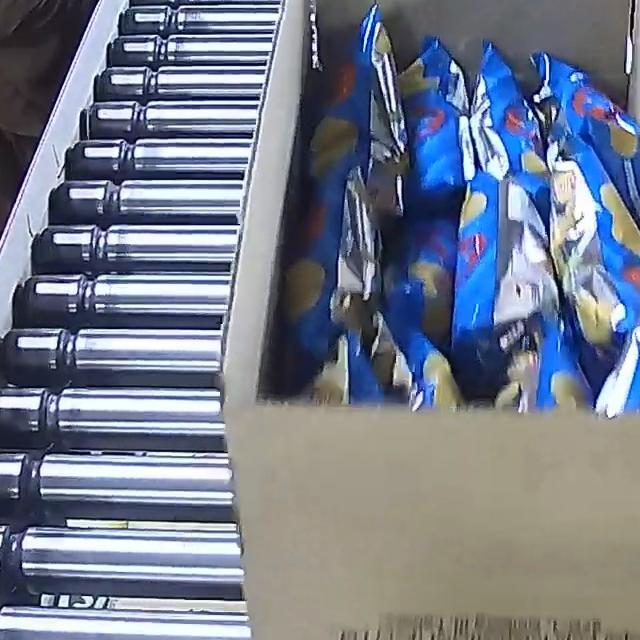paprika: (271, 0, 640, 416)
